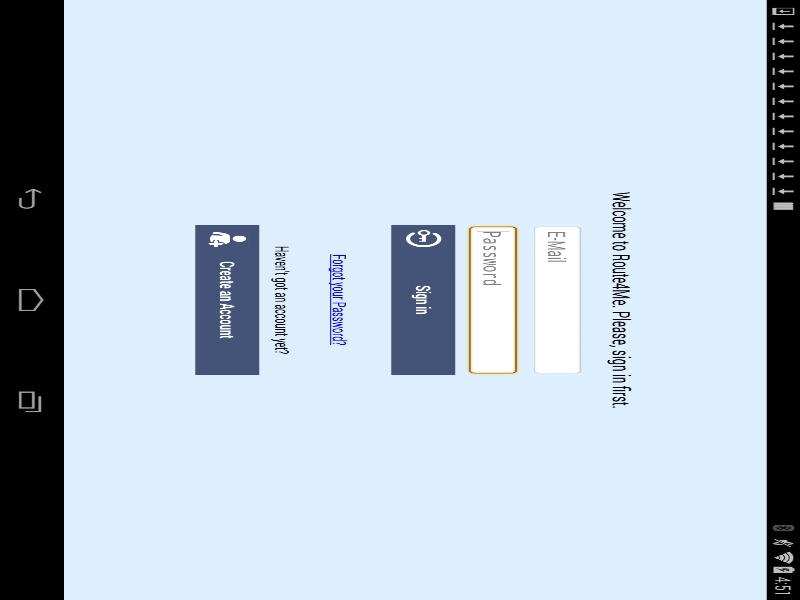Input: (480, 100, 800, 126), (480, 131, 800, 156)
